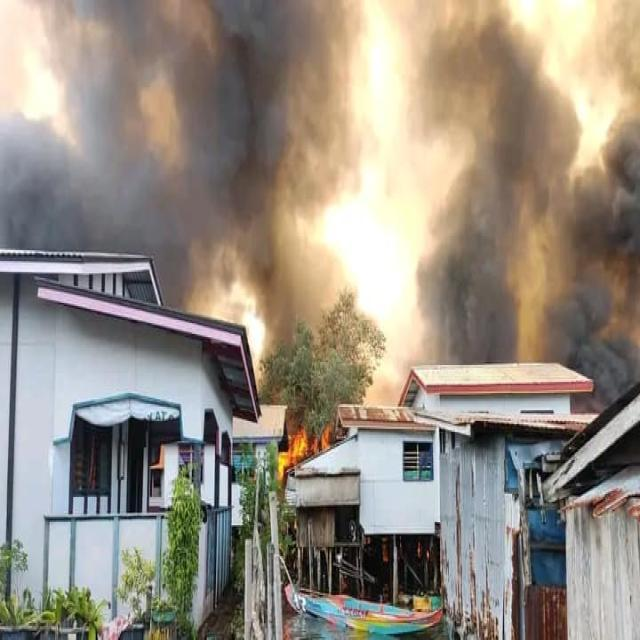Smoke: (2, 0, 362, 247), (426, 6, 640, 352)
